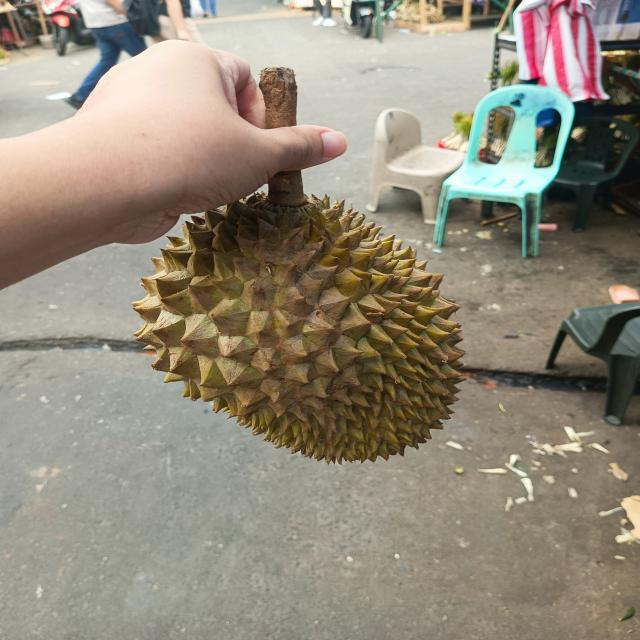mature: (129, 187, 464, 461)
